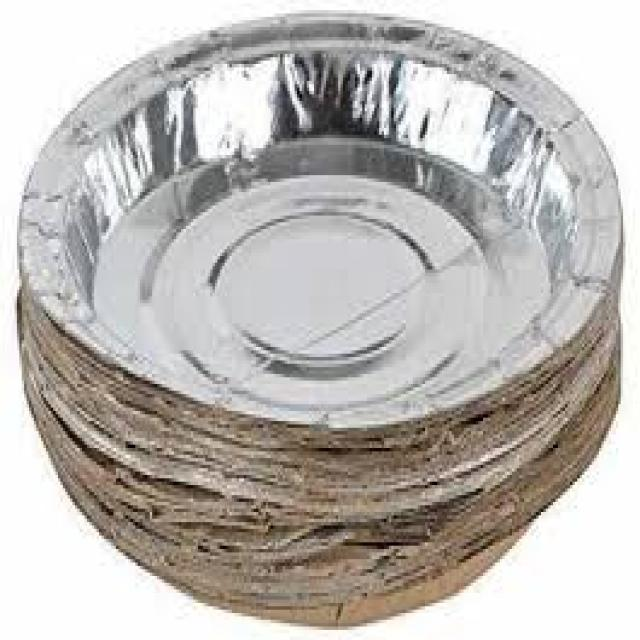Paper -Biodegradable-: (20, 15, 624, 631)
